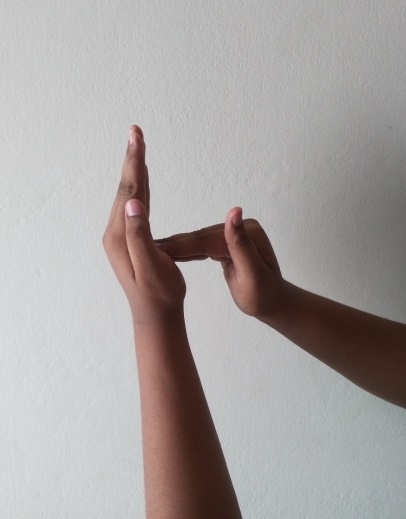ga: (100, 123, 286, 309)
